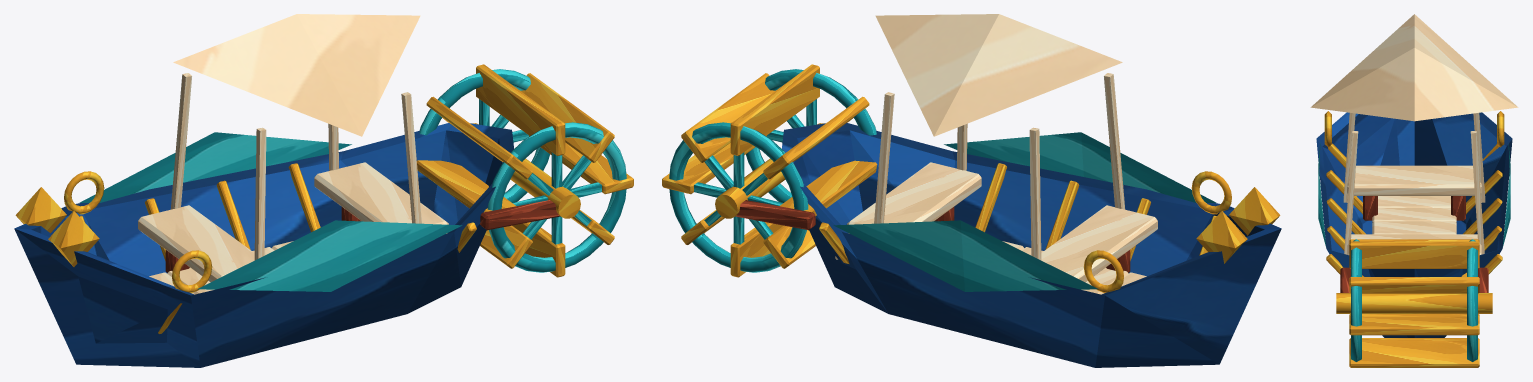
The model's file is 01_原神参考_赛璐璐.glb.
3 views of the same model, side by side, from view 1: azimuth 30°, elevation 25°; view 2: azimuth 150°, elevation 25°; view 3: azimuth 270°, elevation 25° (orthographic). The views are drawn at different scales.
Visible parts, largest first — view 1: folded_ferry; view 2: folded_ferry; view 3: folded_ferry.
Part boxes in pixels (x1,y1,x2,y2): folded_ferry: [14, 14, 633, 367]; folded_ferry: [662, 14, 1281, 367]; folded_ferry: [1310, 14, 1518, 367].
Size of the model in its own units: 2.67 by 1.31 by 1.04.
Materials: 2 (2 with a texture image).
